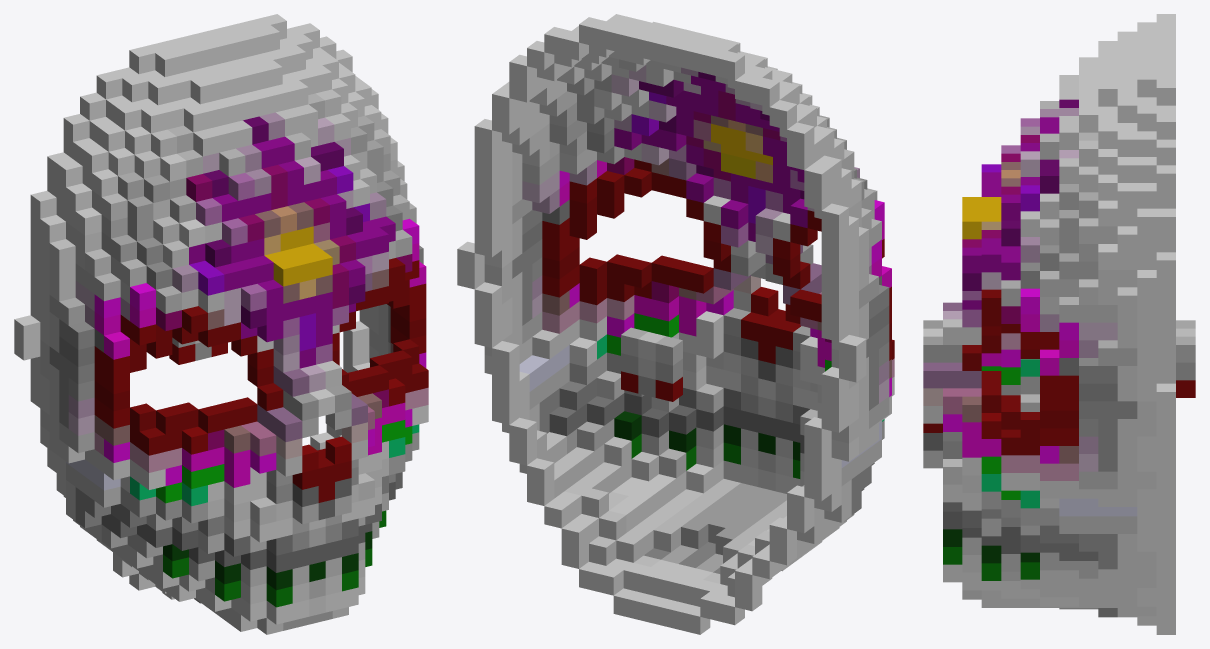
3 views of the same model, side by side, from view 1: azimuth 30°, elevation 25°; view 2: azimuth 150°, elevation 25°; view 3: azimuth 270°, elevation 25° (orthographic). The views are drawn at different scales.
Bounding box in the file's own units: 1.15 × 1.6 × 0.7.
